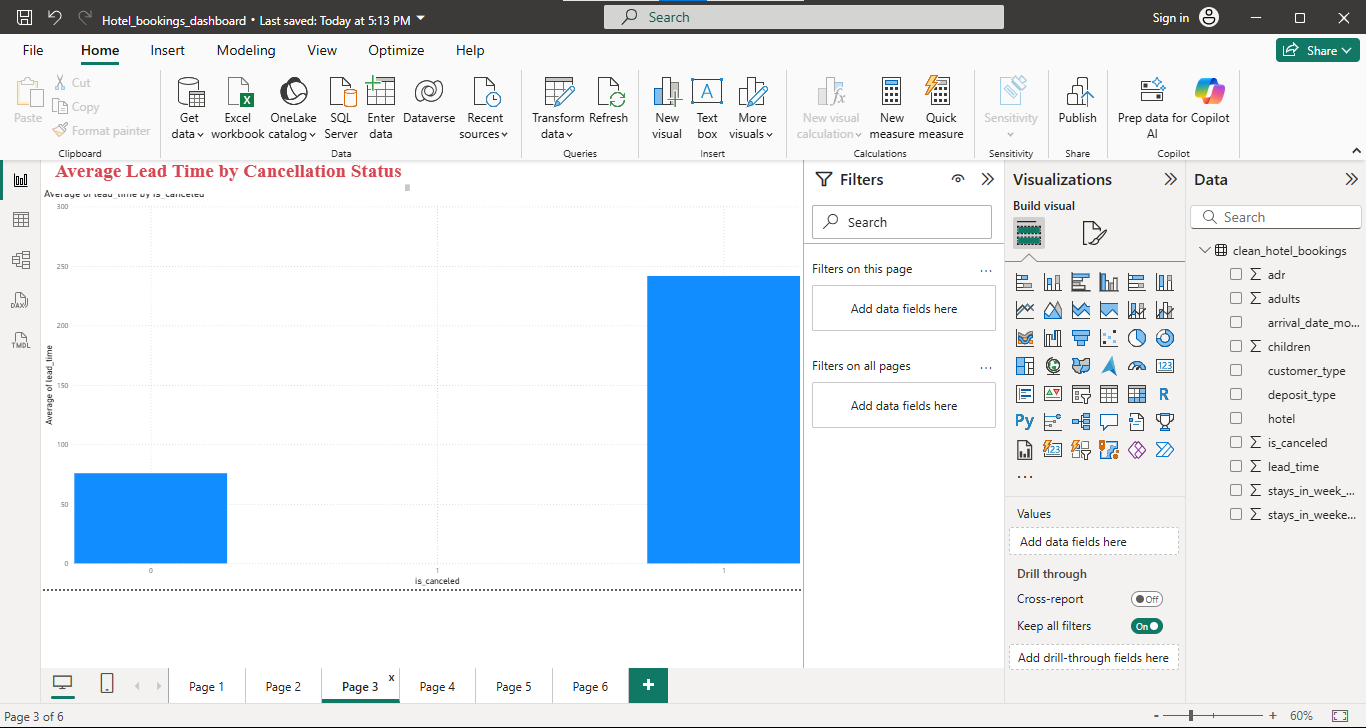

The page's visual inventory and layout, read from the dashboard file:
{"tool":"powerbi","page":{"name":"Page 3","canvas":[1280,720],"ordinal":2},"visuals":[{"type":"clusteredColumnChart","fields":{"Y":["Avg(clean_hotel_bookings.lead_time)"],"Category":["clean_hotel_bookings.is_canceled"]},"box":[0,45.4,1280,675.3],"z":0},{"type":"textbox","title":"Average Lead Time by Cancellation Status","box":[18.5,0,606.4,57.1],"z":1}]}

Visuals, with their boxes on the page's 1280x720 design canvas (x1, y1, x2, y2). These are canvas units, not pixel positions in the 1366x728 screenshot, which may show the page scaled, cropped or inside an application window:
clusteredColumnChart - Avg(clean_hotel_bookings.lead_time) x clean_hotel_bookings.is_canceled: <bbox>0, 45, 1280, 721</bbox>
"Average Lead Time by Cancellation Status" textbox: <bbox>18, 0, 625, 57</bbox>
